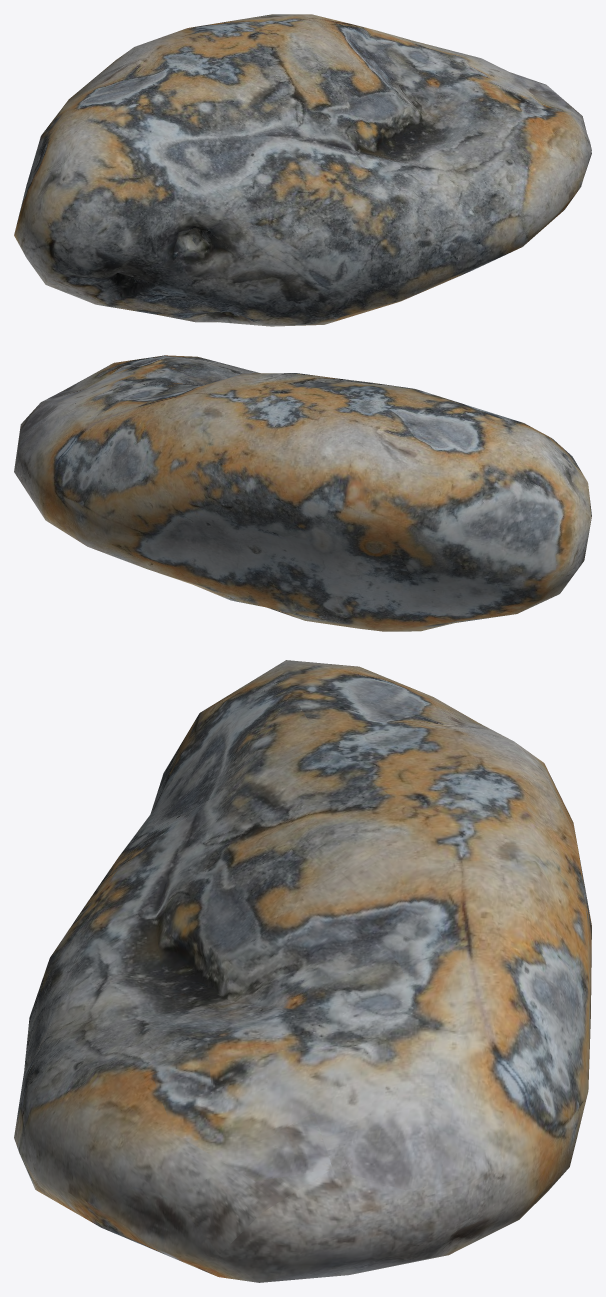
File: rock_45.obj
3 renders of one model, top to bottom at view 1: azimuth 30°, elevation 25°; view 2: azimuth 150°, elevation 25°; view 3: azimuth 270°, elevation 25°, orthographic. The views are drawn at different scales.
Visible parts, largest first — view 1: rock45_lr; view 2: rock45_lr; view 3: rock45_lr.
Boxes of the visible parts, <box> form: rock45_lr: <box>14,14,591,326</box>; rock45_lr: <box>14,355,591,631</box>; rock45_lr: <box>14,660,591,1282</box>.
Size of the model in its own units: 47.28 by 19.49 by 26.14.
